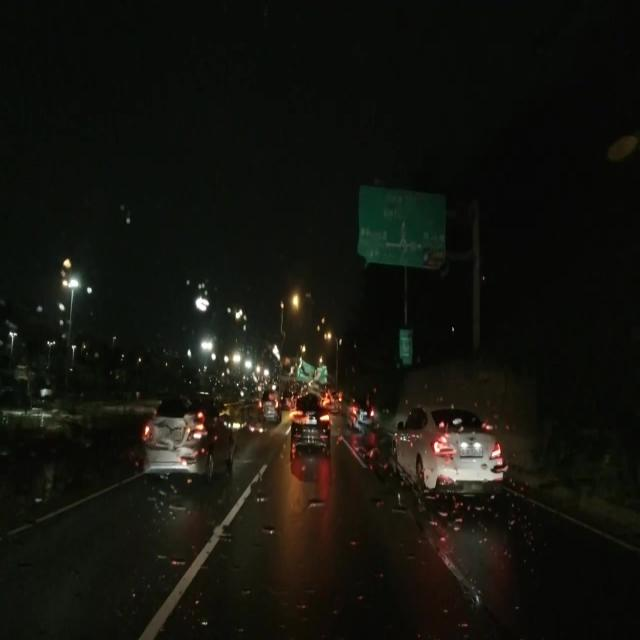Car: (394, 402, 501, 499), (138, 392, 231, 478), (288, 391, 331, 453), (258, 385, 282, 423)
